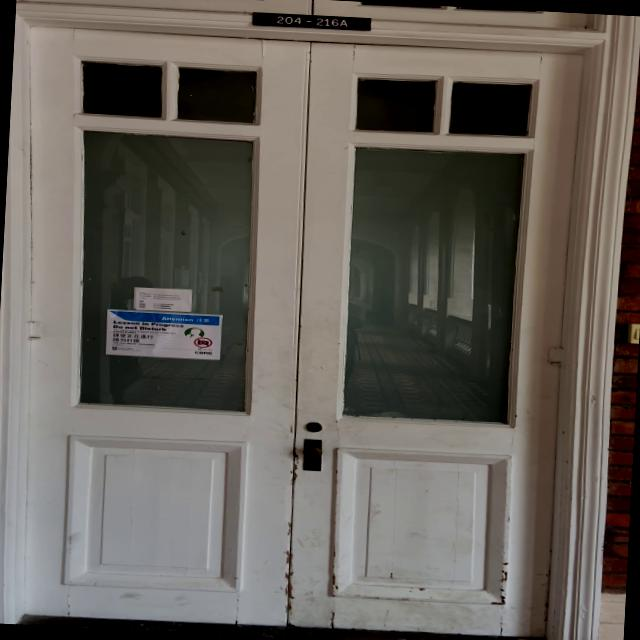room204: (248, 8, 374, 34)
